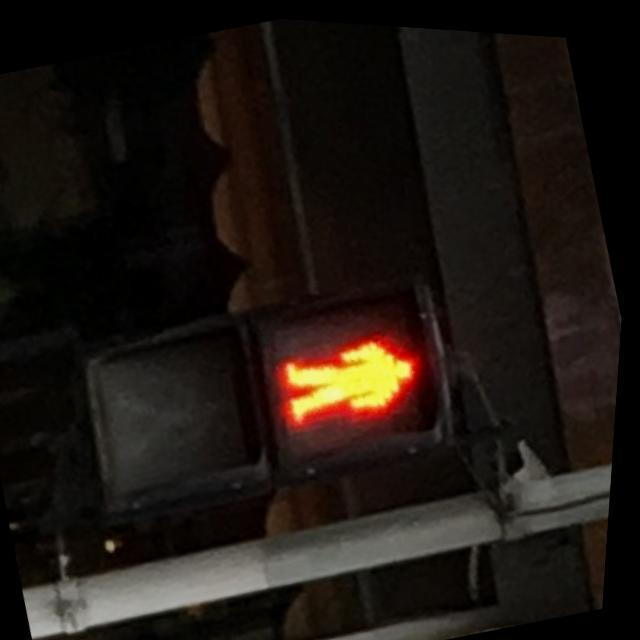red_light: (261, 289, 452, 452)
